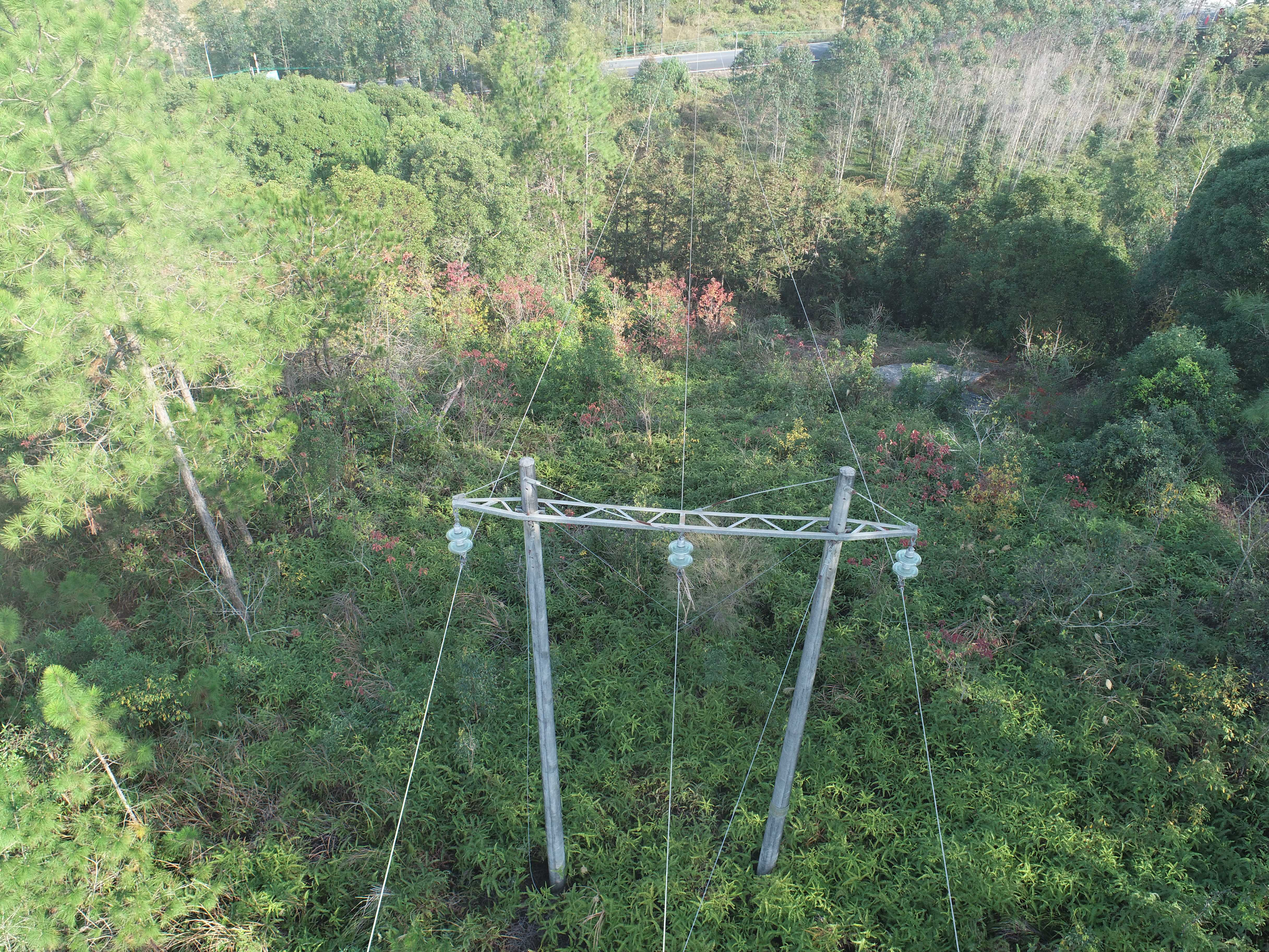异物: (675, 566, 695, 624)
